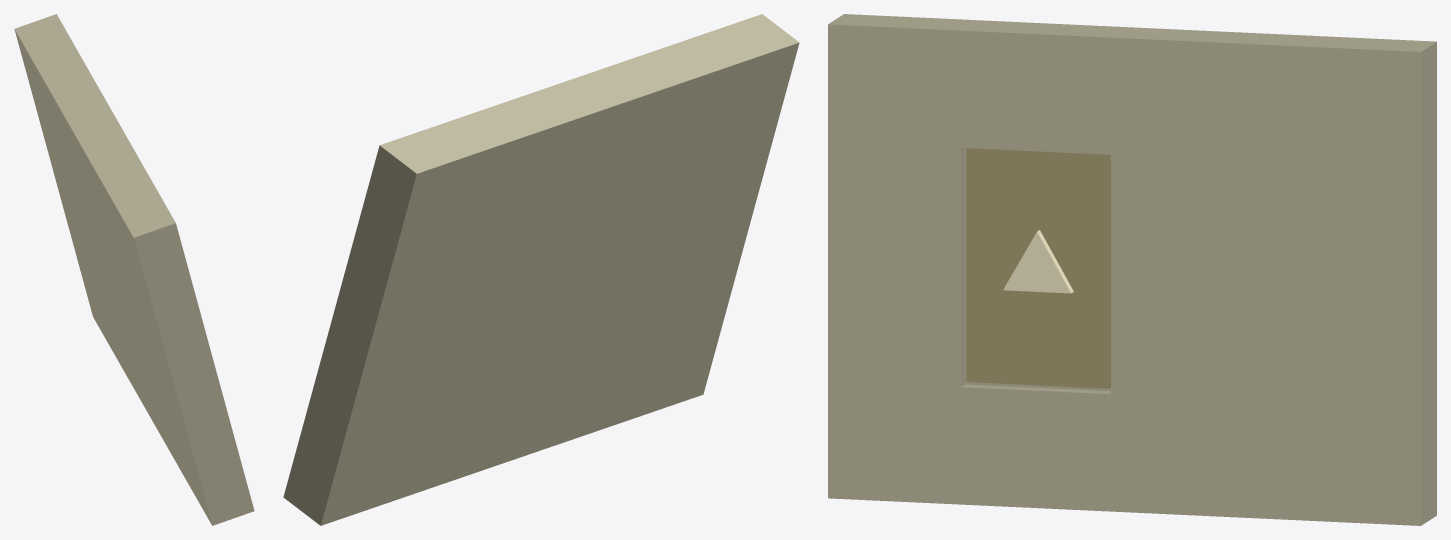
File: Golden Play button.glb
3 renders of one model, left to right at view 1: azimuth 30°, elevation 25°; view 2: azimuth 150°, elevation 25°; view 3: azimuth 270°, elevation 25°, orthographic. The views are drawn at different scales.
Parts seen in each view (by area): view 1: pCube59; view 2: pCube59; view 3: pCube59.
Boxes of the visible parts, x1,y1,x2,y2 form: pCube59: (14,14,254,525); pCube59: (283,14,799,525); pCube59: (828,14,1436,525).
Size of the model in its own units: 16.05 by 24.93 by 29.11.
